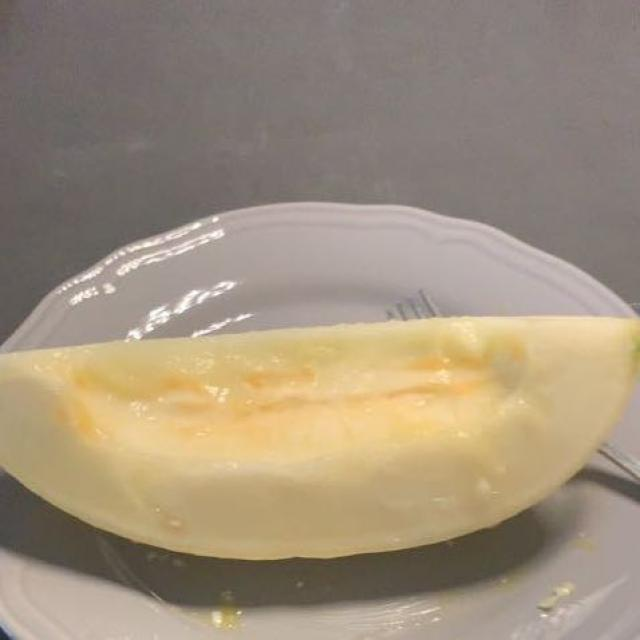melon: (19, 328, 638, 543)
